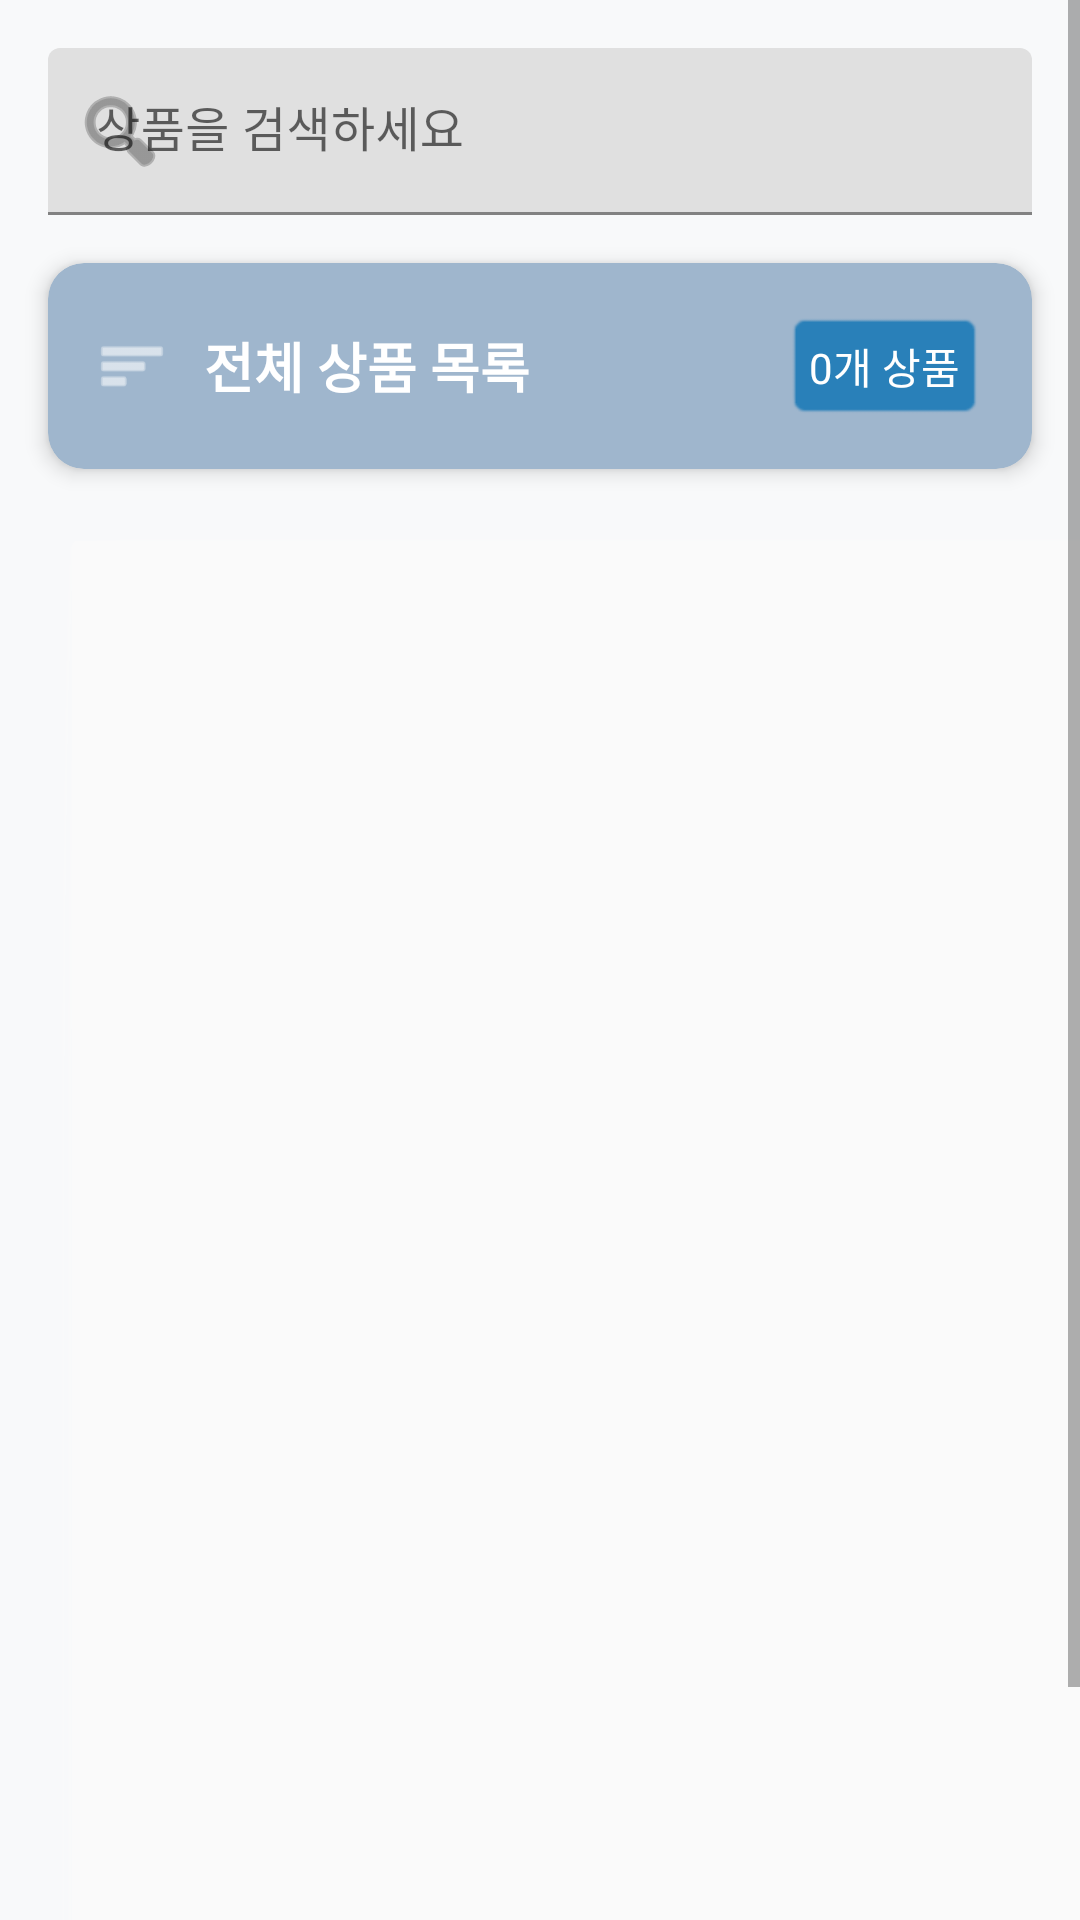

Screen size 1080px×1920px. Icon name, then its box in pixels as [x1, y1, x2, y2]:
sort by size: [101, 347, 163, 386]
